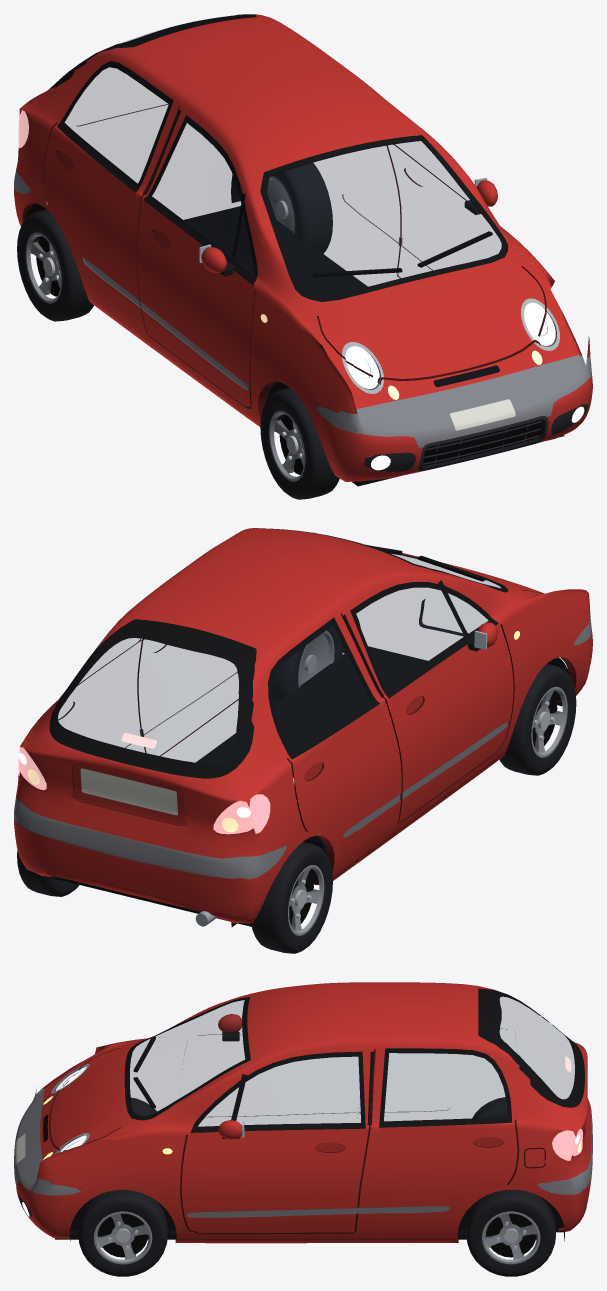
The model's file is car_city_red.glb.
3 views of the same model, one above another, from view 1: azimuth 30°, elevation 25°; view 2: azimuth 150°, elevation 25°; view 3: azimuth 270°, elevation 25° (orthographic). The views are drawn at different scales.
Visible parts, largest first — view 1: body, wheel_fl, wheel_rl, wheel_rr; view 2: body, wheel_rl, wheel_fl, wheel_fr, wheel_rr; view 3: body, wheel_rr, wheel_fr, wheel_rl.
Part boxes in pixels (x1,y1,x2,y2): body: (14, 14, 592, 486); wheel_fl: (260, 387, 339, 499); wheel_rl: (17, 209, 93, 321); wheel_rr: (267, 162, 332, 253); body: (14, 528, 592, 927); wheel_rl: (251, 841, 332, 953); wheel_fl: (499, 663, 576, 775); wheel_fr: (272, 625, 343, 704); wheel_rr: (17, 850, 79, 896); body: (14, 982, 592, 1243); wheel_rr: (466, 1189, 555, 1276); wheel_fr: (78, 1189, 167, 1276); wheel_rl: (472, 1097, 542, 1148).
Bounding box in the file's own units: 1.62 × 1.49 × 3.51.
